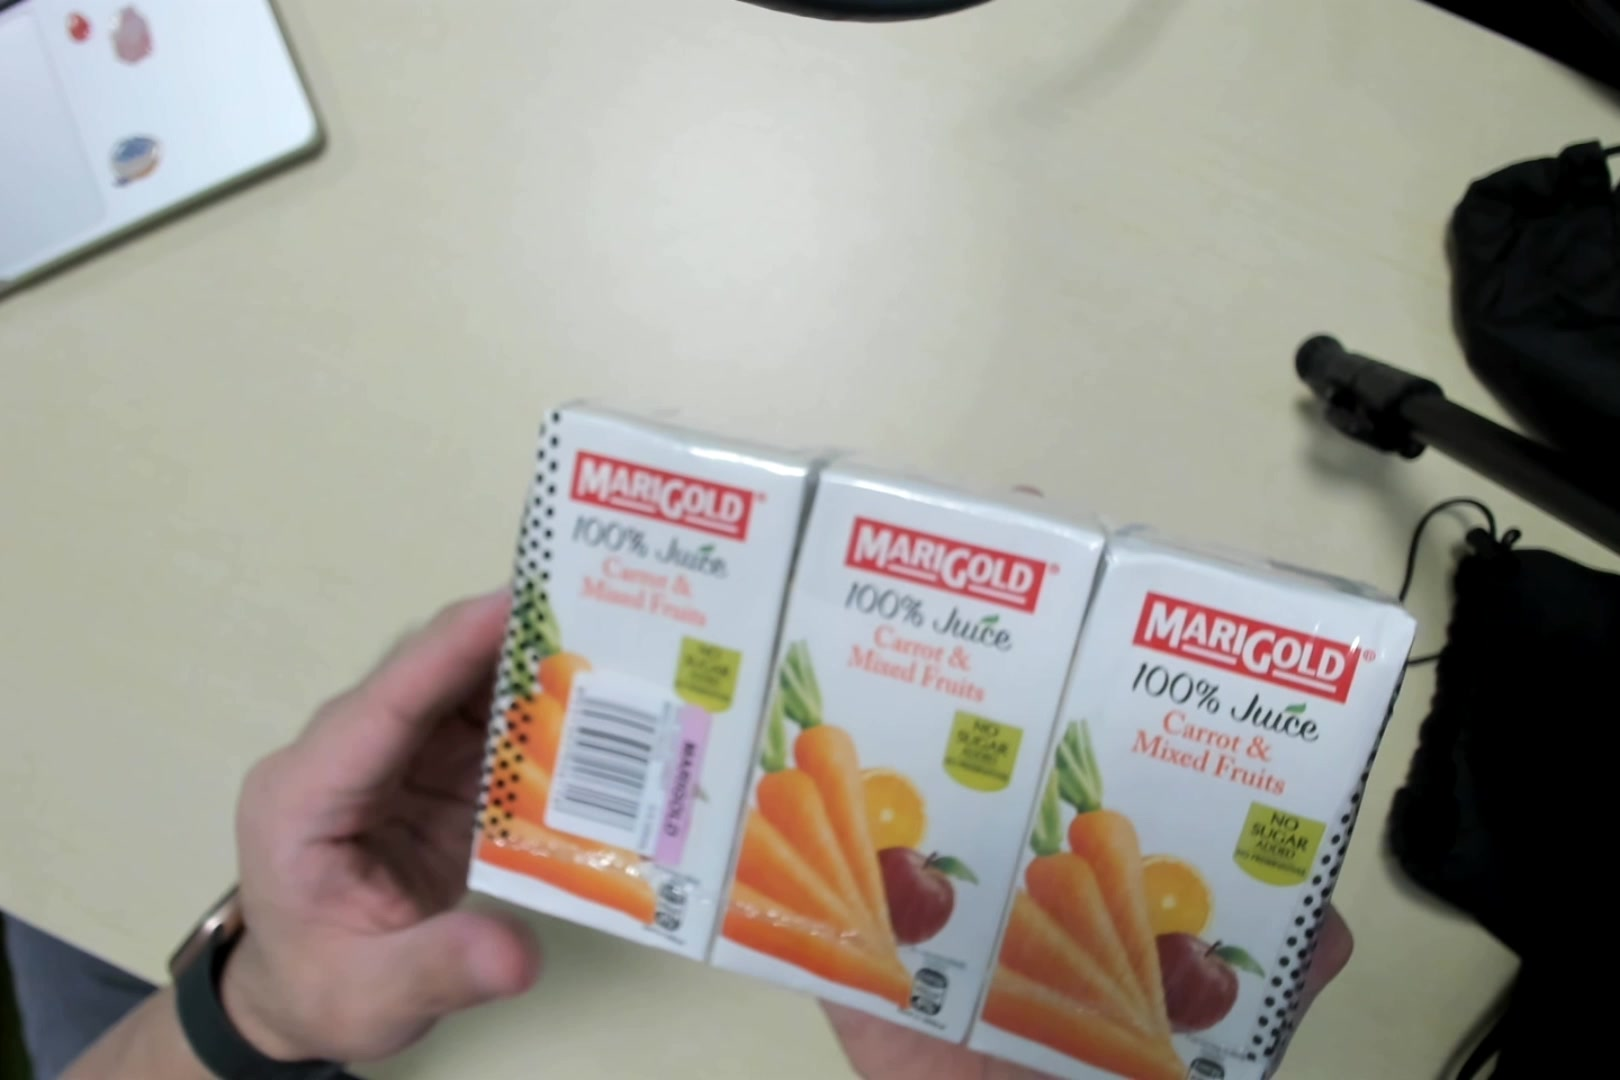FruitJuiceDrink_500-599g_Halal_NonHealthy: (480, 397, 1414, 1080)
